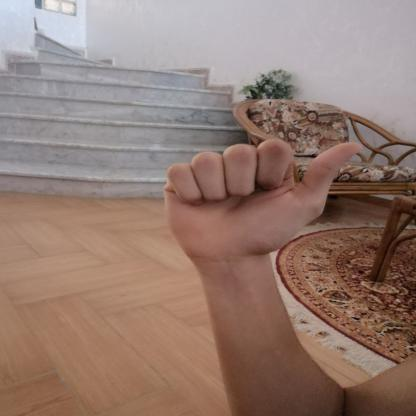DAD: (150, 130, 376, 273)
